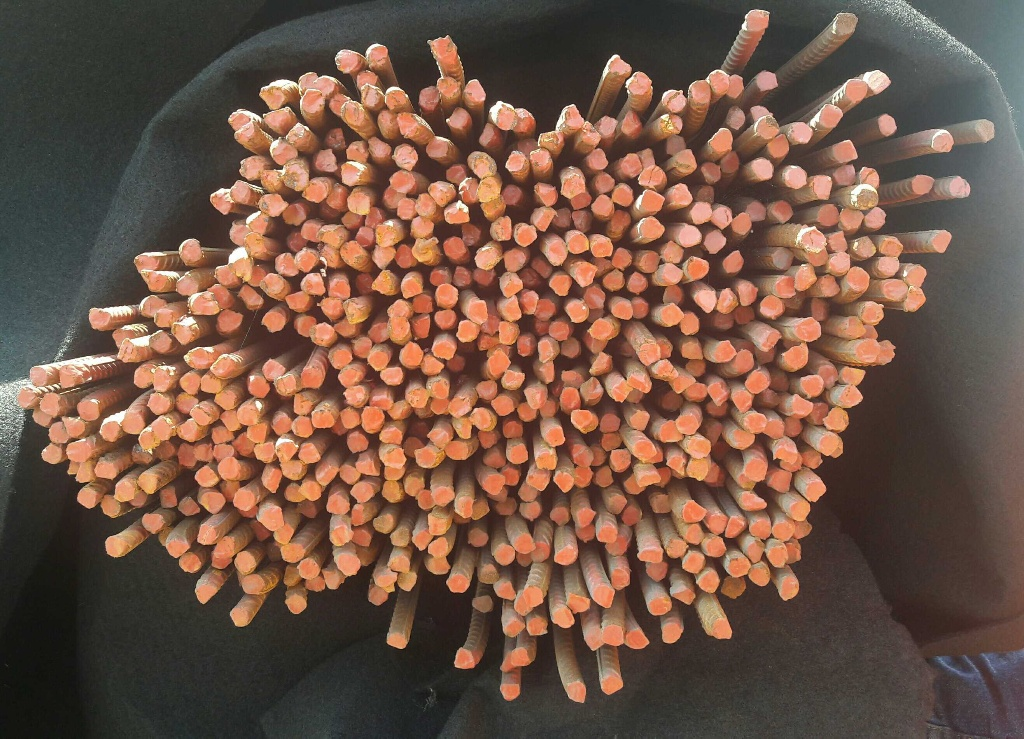dipstick: (467, 151, 497, 177), (282, 162, 309, 189), (270, 139, 298, 165), (852, 183, 878, 208), (429, 182, 455, 206), (799, 227, 825, 251), (265, 107, 292, 130), (784, 343, 808, 368), (795, 318, 821, 341), (532, 207, 556, 231), (857, 339, 881, 363), (867, 70, 891, 94), (259, 194, 284, 217), (313, 149, 338, 172), (373, 271, 398, 294), (493, 104, 515, 130), (659, 420, 685, 442), (716, 288, 738, 314), (795, 264, 816, 291), (191, 294, 219, 314), (275, 253, 299, 276), (400, 342, 423, 366), (394, 144, 417, 168), (745, 370, 769, 393), (218, 310, 243, 332), (211, 188, 233, 213), (319, 297, 344, 319), (310, 324, 335, 346), (362, 407, 384, 432), (444, 201, 469, 223), (500, 272, 522, 297), (572, 410, 597, 432), (721, 576, 746, 598), (687, 256, 709, 281), (412, 239, 438, 260), (259, 88, 286, 108), (347, 192, 370, 215), (473, 408, 496, 431), (590, 352, 613, 375), (683, 500, 706, 523), (863, 206, 886, 229), (825, 407, 848, 430), (397, 112, 421, 134), (382, 187, 406, 209), (432, 38, 456, 60), (526, 468, 550, 490), (537, 337, 559, 361), (561, 174, 585, 196), (662, 90, 686, 112), (674, 149, 696, 173), (760, 295, 784, 317), (247, 212, 272, 233), (390, 171, 415, 192), (458, 176, 479, 201), (474, 248, 499, 269), (772, 276, 797, 297), (736, 281, 757, 306), (622, 152, 642, 178), (755, 330, 781, 350), (740, 491, 766, 511), (212, 356, 235, 378), (241, 284, 263, 307), (240, 158, 263, 180), (301, 273, 324, 295), (345, 300, 368, 322), (341, 241, 363, 264), (302, 89, 324, 112), (335, 50, 358, 72), (341, 101, 364, 123), (385, 87, 407, 110), (477, 180, 500, 202), (498, 322, 521, 344), (515, 223, 537, 246), (512, 107, 534, 130), (623, 472, 646, 494), (638, 343, 661, 365), (660, 304, 683, 326), (708, 382, 730, 405), (756, 116, 779, 138), (820, 104, 842, 127), (769, 470, 792, 492), (931, 130, 953, 153), (195, 465, 219, 486), (282, 204, 306, 225), (374, 225, 398, 246), (416, 193, 437, 217), (682, 552, 706, 573), (844, 315, 865, 339), (848, 266, 869, 290), (883, 280, 907, 301), (177, 419, 199, 441), (176, 392, 198, 414), (179, 372, 201, 394), (263, 359, 285, 381), (361, 85, 383, 107), (436, 284, 458, 306), (453, 647, 475, 669), (602, 623, 624, 645), (698, 571, 720, 593), (767, 134, 789, 156), (784, 166, 806, 188), (771, 201, 793, 223), (732, 349, 754, 371), (744, 458, 766, 480), (861, 302, 883, 324), (845, 79, 867, 101), (177, 443, 198, 466), (261, 508, 284, 529), (271, 411, 292, 434), (291, 415, 314, 436), (432, 486, 455, 507), (342, 162, 363, 185), (409, 314, 430, 337), (593, 585, 614, 608), (483, 473, 506, 494), (524, 387, 547, 408), (639, 165, 662, 186), (834, 140, 857, 161), (840, 385, 863, 406), (912, 174, 935, 195), (904, 288, 925, 311), (67, 441, 91, 461), (201, 492, 225, 512), (437, 77, 461, 97), (560, 387, 580, 411), (589, 319, 613, 339), (627, 73, 651, 93), (640, 218, 664, 238), (730, 429, 754, 449), (773, 443, 797, 463), (282, 460, 307, 479), (338, 368, 363, 387), (123, 413, 145, 434), (218, 457, 240, 478), (234, 552, 256, 573), (233, 489, 255, 510), (316, 465, 337, 487), (388, 317, 410, 338), (366, 45, 387, 67), (329, 94, 351, 115), (396, 245, 417, 267), (419, 87, 440, 109), (444, 236, 465, 258), (571, 445, 593, 466), (504, 249, 525, 271), (642, 189, 663, 211), (610, 380, 631, 402), (695, 290, 716, 312), (663, 241, 684, 263), (700, 162, 721, 184), (752, 158, 773, 180), (789, 122, 810, 144), (840, 208, 862, 229), (773, 247, 794, 269), (731, 391, 753, 412), (749, 563, 770, 585), (782, 416, 804, 437), (802, 375, 823, 397), (829, 253, 850, 275), (854, 236, 876, 257), (142, 513, 165, 533), (368, 323, 391, 343), (388, 299, 411, 319), (368, 136, 391, 156), (430, 266, 453, 286), (447, 108, 470, 128), (468, 301, 488, 324), (491, 396, 514, 416), (491, 217, 511, 240), (548, 242, 568, 265), (595, 116, 618, 136), (535, 185, 558, 205), (628, 271, 648, 294), (686, 460, 709, 480), (654, 359, 677, 379), (710, 129, 733, 149), (262, 468, 281, 492), (230, 222, 249, 246), (726, 105, 745, 129), (742, 414, 766, 433), (153, 367, 171, 392), (280, 543, 305, 561), (152, 418, 173, 439), (196, 583, 217, 604), (300, 480, 321, 501), (262, 273, 283, 294), (244, 233, 265, 254), (304, 181, 325, 202), (295, 250, 316, 271), (587, 148, 608, 169), (567, 302, 588, 323), (581, 378, 602, 399), (610, 448, 631, 469), (612, 184, 633, 205), (635, 440, 656, 461), (712, 617, 733, 638), (680, 225, 701, 246), (818, 205, 839, 226), (835, 164, 856, 185), (827, 231, 848, 252), (778, 576, 799, 597), (182, 239, 202, 261), (143, 296, 165, 316), (40, 393, 60, 415), (101, 494, 121, 516), (148, 392, 170, 412), (186, 348, 208, 368), (338, 554, 360, 574), (331, 526, 353, 546), (248, 377, 270, 397), (318, 228, 340, 248), (435, 309, 457, 329), (457, 320, 479, 340), (553, 608, 575, 628), (550, 275, 572, 295), (552, 205, 572, 227), (592, 195, 614, 215), (690, 80, 710, 102), (660, 114, 682, 134), (629, 373, 651, 393), (703, 537, 725, 557), (726, 516, 746, 538), (676, 414, 698, 434), (680, 313, 700, 335), (705, 231, 725, 253), (835, 13, 857, 33), (859, 167, 879, 189), (806, 480, 826, 502), (77, 401, 100, 420), (228, 110, 251, 129), (397, 197, 416, 220), (554, 545, 577, 564), (592, 173, 615, 192), (684, 383, 707, 402), (660, 264, 683, 283), (793, 393, 812, 416), (933, 230, 952, 253), (813, 175, 831, 199), (177, 275, 198, 295), (172, 324, 193, 344), (41, 444, 62, 464), (138, 473, 159, 493), (221, 410, 242, 430), (180, 552, 201, 572), (286, 594, 307, 614), (273, 523, 293, 544), (299, 443, 320, 463), (277, 440, 297, 461), (347, 432, 368, 452), (404, 437, 424, 458), (429, 428, 449, 449), (423, 354, 443, 375), (286, 124, 307, 144), (495, 544, 515, 565), (490, 352, 510, 373), (553, 472, 574, 492), (606, 494, 627, 514), (517, 335, 538, 355), (535, 299, 555, 320), (575, 264, 595, 285), (583, 288, 604, 308), (647, 561, 668, 581), (707, 513, 727, 534), (714, 340, 735, 360), (672, 184, 693, 204), (691, 203, 711, 224), (731, 213, 751, 234), (750, 519, 771, 539), (745, 540, 765, 561), (766, 546, 786, 567), (820, 275, 840, 296), (906, 265, 926, 286), (215, 390, 237, 409), (263, 312, 285, 331), (345, 386, 367, 405), (301, 223, 323, 242), (346, 142, 368, 161), (355, 226, 374, 248), (401, 278, 423, 297), (426, 137, 448, 156), (427, 379, 449, 398), (507, 444, 529, 463), (502, 370, 524, 389), (610, 568, 629, 590), (565, 104, 584, 126), (729, 557, 751, 576), (746, 10, 768, 29), (780, 452, 802, 471), (95, 460, 118, 478), (211, 425, 234, 443), (167, 539, 190, 557), (426, 556, 449, 574), (432, 341, 455, 359), (446, 441, 469, 459), (503, 298, 521, 321), (582, 122, 600, 145), (976, 119, 994, 142), (771, 522, 795, 539), (49, 422, 69, 442), (105, 536, 125, 556), (215, 536, 235, 556), (332, 349, 352, 369), (428, 537, 448, 557), (385, 448, 405, 468), (466, 80, 486, 100), (568, 233, 588, 253), (639, 252, 659, 272), (631, 298, 651, 318), (661, 623, 681, 643), (663, 285, 683, 305), (723, 251, 743, 271), (790, 501, 810, 521), (146, 271, 167, 290), (88, 308, 109, 327), (150, 331, 171, 350), (132, 444, 153, 463), (198, 523, 217, 544), (237, 406, 258, 425), (373, 513, 394, 532), (328, 280, 349, 299), (300, 72, 319, 93), (524, 585, 543, 606), (622, 504, 641, 525), (712, 208, 731, 229), (881, 237, 902, 256), (118, 339, 136, 361), (190, 406, 212, 424), (327, 496, 349, 514), (351, 483, 373, 501), (335, 317, 357, 335), (314, 76, 336, 94), (449, 397, 471, 415), (455, 496, 473, 518), (601, 676, 623, 694), (568, 594, 590, 612), (519, 501, 541, 519), (650, 494, 672, 512), (878, 114, 896, 136), (134, 255, 157, 272), (521, 291, 538, 314), (649, 598, 672, 615), (65, 418, 85, 437), (101, 422, 121, 441), (77, 488, 96, 508), (299, 559, 319, 578), (276, 375, 295, 395), (301, 368, 321, 387), (231, 181, 250, 201), (368, 586, 388, 605), (397, 572, 417, 591), (340, 464, 359, 484), (357, 70, 377, 89), (446, 165, 466, 184), (496, 580, 516, 599), (586, 630, 605, 650), (690, 439, 710, 458), (746, 201, 765, 221), (951, 177, 970, 197), (216, 265, 237, 283), (178, 497, 199, 515), (242, 575, 263, 593), (284, 483, 305, 501), (313, 410, 334, 428), (298, 316, 316, 337), (388, 555, 409, 573), (354, 337, 372, 358), (412, 294, 433, 312), (413, 216, 434, 234), (407, 389, 428, 407), (430, 397, 451, 415), (476, 380, 497, 398), (626, 628, 644, 649), (544, 427, 565, 445), (506, 151, 524, 172), (612, 301, 633, 319), (603, 270, 624, 288), (609, 57, 630, 75), (710, 71, 728, 92), (686, 359, 707, 377), (721, 151, 739, 172), (820, 434, 838, 455), (878, 256, 899, 274), (638, 548, 663, 563), (447, 575, 469, 592), (495, 497, 517, 514), (535, 452, 557, 469), (379, 429, 402, 445), (784, 539, 800, 562), (115, 482, 134, 501), (140, 431, 159, 450), (247, 423, 266, 442), (293, 396, 312, 415), (417, 448, 436, 467), (515, 534, 534, 553), (576, 508, 595, 527), (519, 482, 538, 501), (502, 185, 521, 204), (612, 248, 631, 267), (630, 411, 649, 430), (684, 525, 703, 544), (134, 367, 152, 387), (160, 487, 178, 507), (201, 375, 221, 393), (194, 444, 214, 462), (352, 528, 372, 546), (406, 477, 424, 497), (235, 123, 255, 141), (468, 528, 488, 546), (479, 565, 499, 583), (514, 597, 534, 615), (550, 507, 570, 525), (575, 524, 595, 542), (549, 322, 569, 340), (593, 239, 613, 257), (601, 432, 621, 450), (670, 590, 694, 605), (666, 539, 686, 557), (757, 71, 777, 89), (113, 330, 134, 347), (381, 368, 402, 385), (478, 430, 499, 447), (484, 450, 505, 467), (502, 421, 523, 438), (575, 466, 592, 487), (286, 291, 308, 307), (727, 75, 743, 97), (155, 309, 174, 327), (255, 442, 274, 460), (412, 531, 430, 550), (568, 682, 586, 701), (511, 648, 530, 666), (531, 542, 549, 561), (501, 468, 520, 486), (517, 403, 536, 421), (600, 414, 619, 432), (766, 419, 784, 438), (214, 443, 234, 460), (229, 609, 249, 626), (368, 352, 388, 369), (596, 466, 613, 486), (530, 149, 550, 166), (682, 342, 702, 359), (60, 366, 76, 387), (386, 633, 407, 649), (504, 620, 525, 636), (471, 596, 493, 611), (17, 389, 35, 407), (561, 338, 579, 356), (30, 367, 47, 386), (390, 529, 409, 546), (383, 481, 400, 500), (528, 618, 547, 635), (500, 684, 520, 700), (370, 396, 392, 410), (325, 570, 341, 589), (418, 490, 434, 509), (305, 576, 325, 591), (342, 410, 359, 427), (33, 408, 51, 424), (428, 518, 446, 534), (598, 526, 616, 542), (638, 473, 659, 485)
